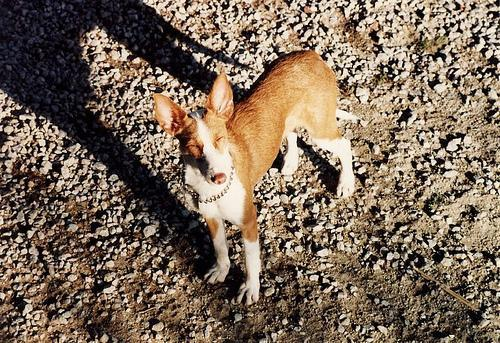Ibizan_hound: (148, 48, 356, 302)
